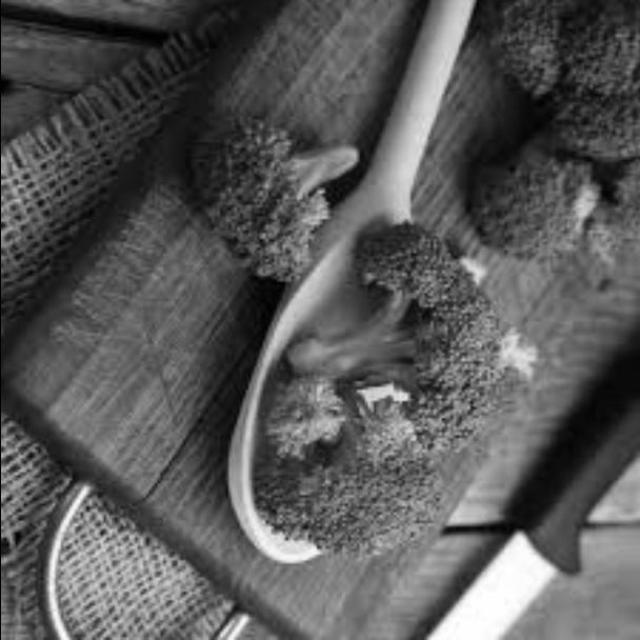bong cai xanh: (245, 238, 523, 566), (442, 1, 640, 277), (188, 107, 386, 278)
